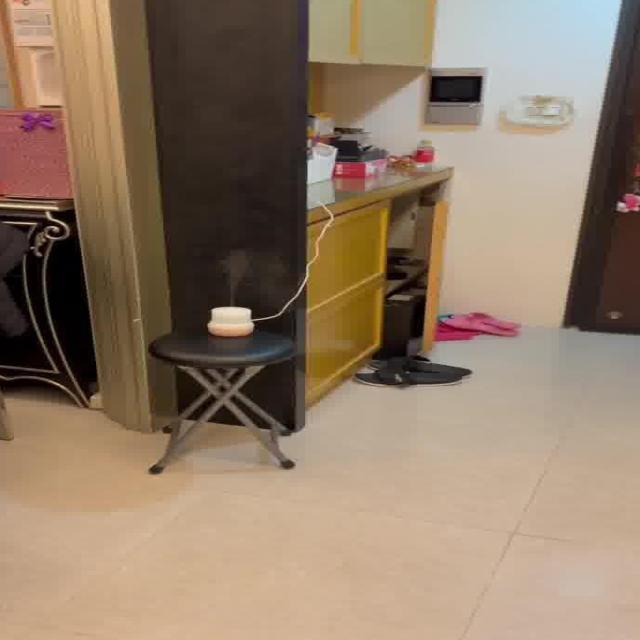fire: (217, 246, 289, 297)
